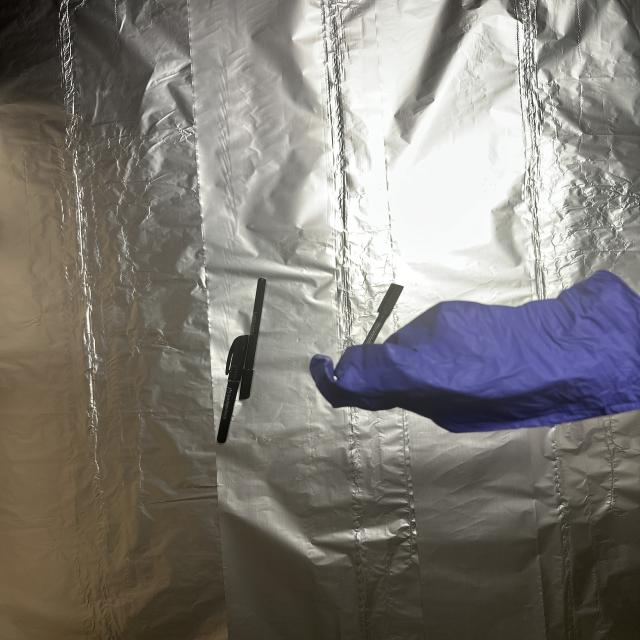glove_not_fitted: (303, 269, 640, 434)
